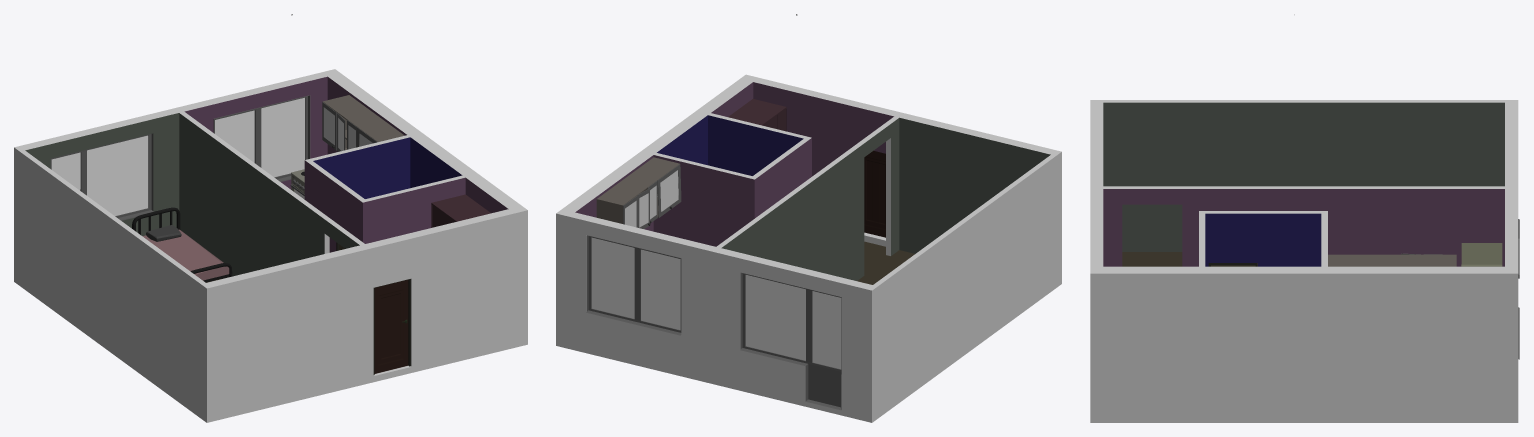
Rendered from dom (4) 1.fbx.
The picture shows the model from 3 angles, left to right: view 1: azimuth 30°, elevation 25°; view 2: azimuth 150°, elevation 25°; view 3: azimuth 270°, elevation 25°; orthographic projection. The views are drawn at different scales.
Visible parts, largest first — view 1: Cube, Plane, Plane.007, DoorBoddy.002, pilow.002, Cube.025, Plane.001, Cube.002, pilow, Plane.005, Cube.032; view 2: Cube, Plane, Plane.007, Plane.001, Plane.005, Cube.025, DoorBoddy.002, Cube.002, Cube.030; view 3: Cube, Cube.025, Cube.008.
Part boxes in pixels (x1,y1,x2,y2): Cube: [14, 69, 527, 422]; Plane: [213, 95, 309, 181]; Plane.007: [87, 135, 148, 215]; DoorBoddy.002: [374, 280, 408, 373]; pilow.002: [143, 229, 229, 280]; Cube.025: [322, 95, 404, 149]; Plane.001: [50, 133, 153, 220]; Cube.002: [431, 194, 490, 227]; pilow: [132, 207, 232, 282]; Plane.005: [51, 152, 80, 190]; Cube.032: [322, 102, 336, 150]; Cube: [556, 74, 1061, 422]; Plane: [586, 235, 681, 335]; Plane.007: [745, 274, 805, 360]; Plane.001: [740, 272, 841, 410]; Plane.005: [812, 291, 841, 369]; Cube.025: [596, 157, 679, 223]; DoorBoddy.002: [864, 150, 885, 237]; Cube.002: [728, 99, 786, 131]; Cube.030: [657, 164, 681, 217]; Cube: [1090, 100, 1518, 422]; Cube.025: [1328, 254, 1456, 266]; Cube.008: [1461, 243, 1502, 264].
Bounding box in the file's own units: 625 × 556 × 652.
